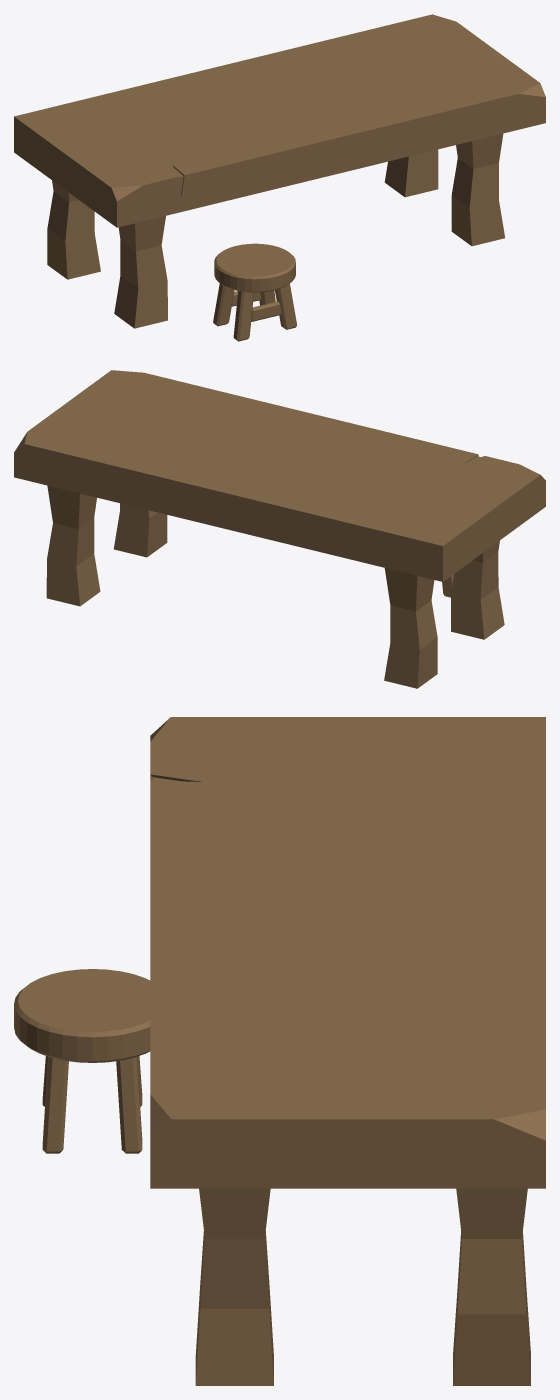
The model's file is Table.glb.
3 renders of one model, top to bottom at view 1: azimuth 30°, elevation 25°; view 2: azimuth 150°, elevation 25°; view 3: azimuth 270°, elevation 25°, orthographic. The views are drawn at different scales.
Visible parts, largest first — view 1: Table; view 2: Table; view 3: Table.
Boxes of the visible parts, x1=… form: Table: x1=14, y1=14, x2=545, y2=341; Table: x1=14, y1=370, x2=545, y2=688; Table: x1=14, y1=717, x2=545, y2=1385.
Bounding box in the file's own units: 12.11 × 4.13 × 6.77.
